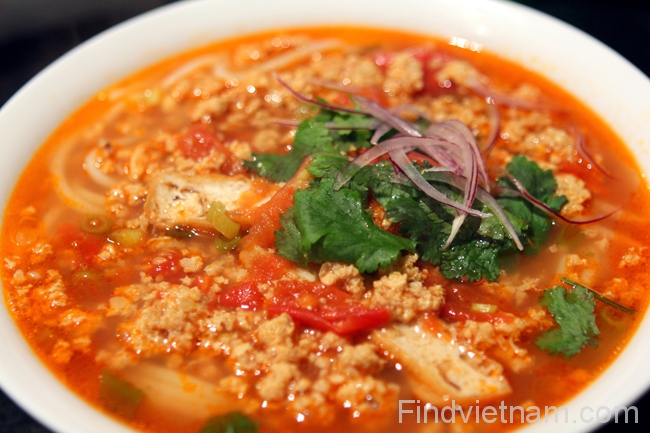rieu: (238, 318, 367, 423), (117, 271, 228, 368)
tofu: (383, 313, 494, 398), (145, 166, 268, 236)
tomato: (248, 256, 373, 336)
